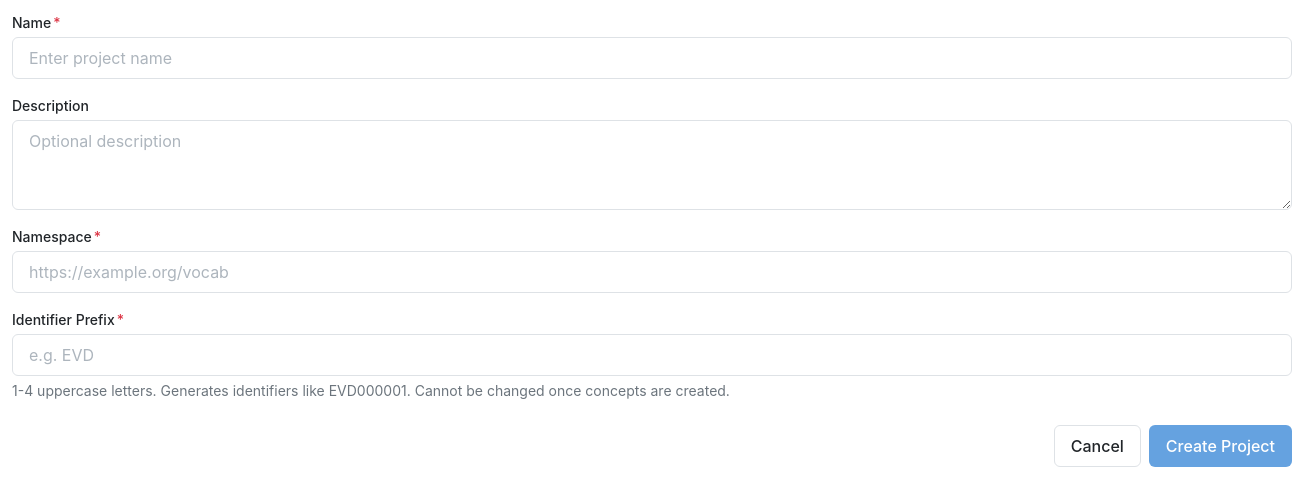
Test case: ProjectForm › validation › enables submit when name, namespace, and prefix have values
Type "New Project" into the field with placeholder "Enter project name" at (652, 58), box [12, 37, 1292, 79]
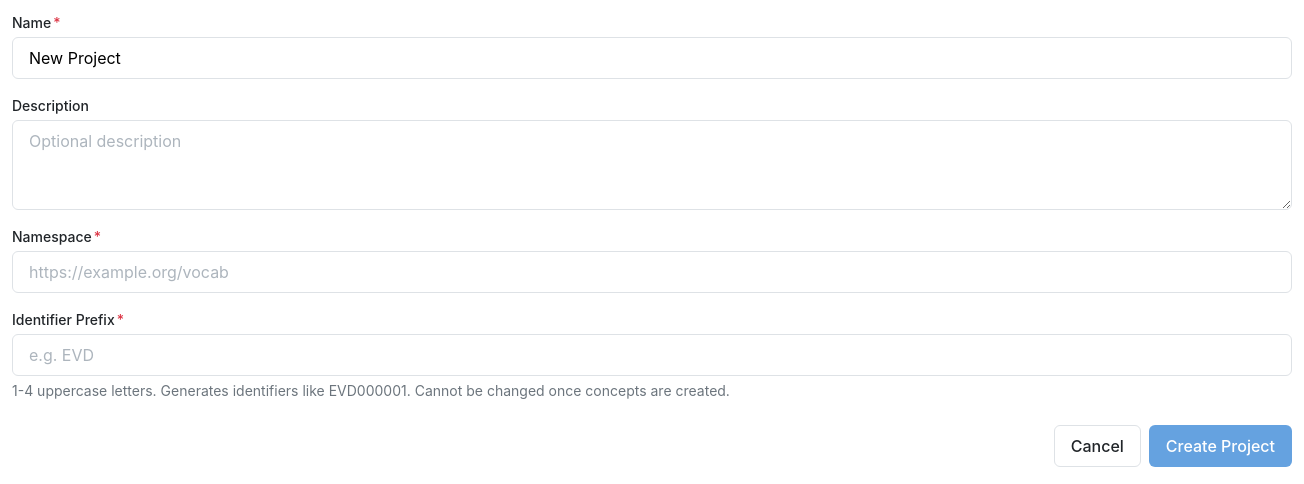
Type "https://example.org/test" into the field with placeholder "https://example.org/vocab" at (652, 272), box [12, 251, 1292, 293]
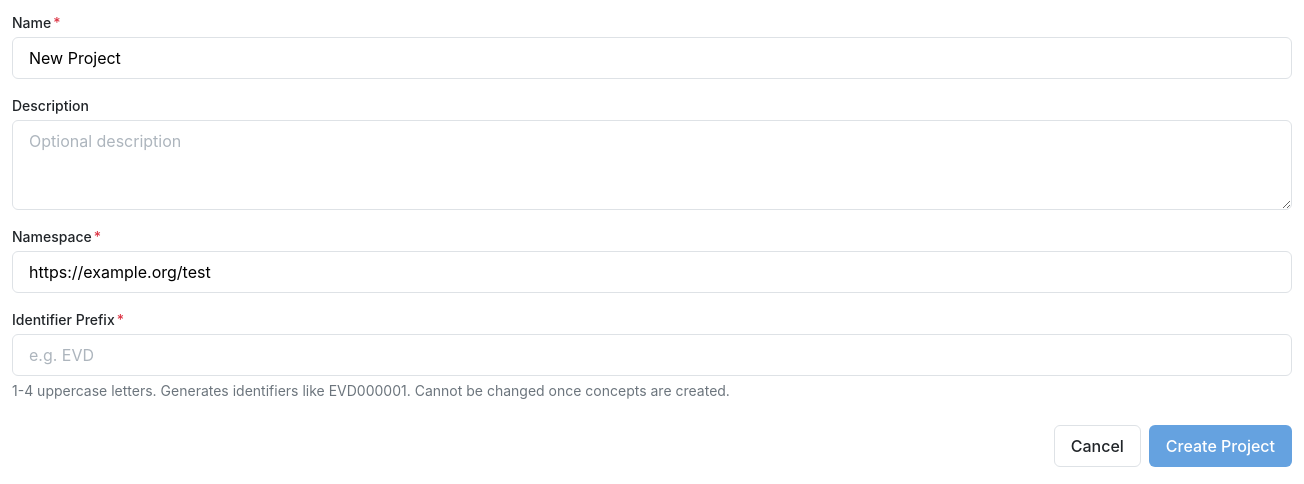
Type "EVD" into the field labelled "Identifier Prefix*" at (652, 355), box [12, 334, 1292, 376]
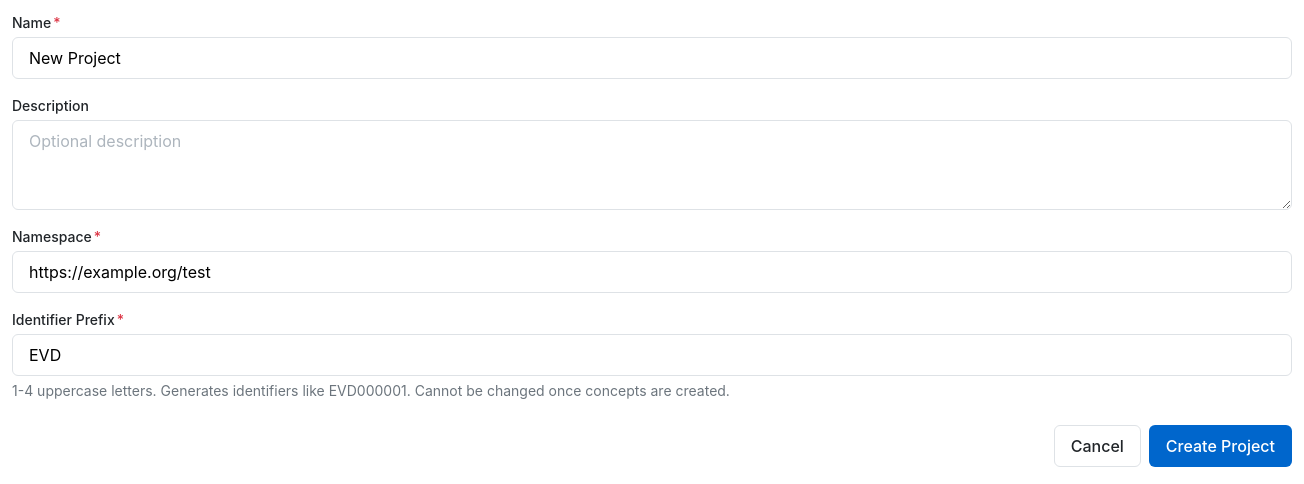
expect the button "Create Project" is enabled: met, box [1149, 425, 1292, 467]
